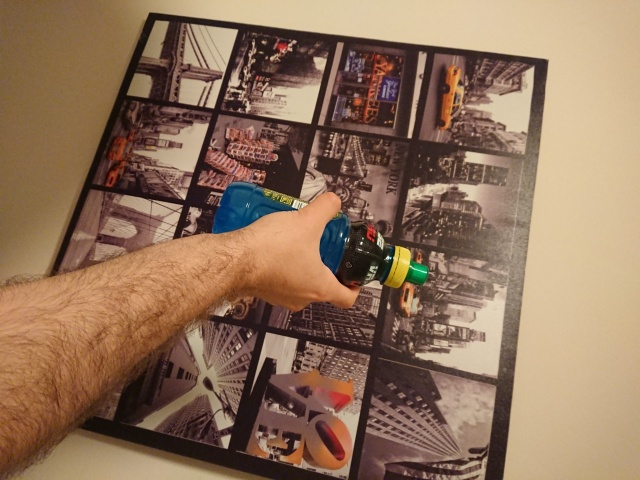Vindi Iso Sport Forest Strawberries 500mL: (208, 179, 431, 290)
